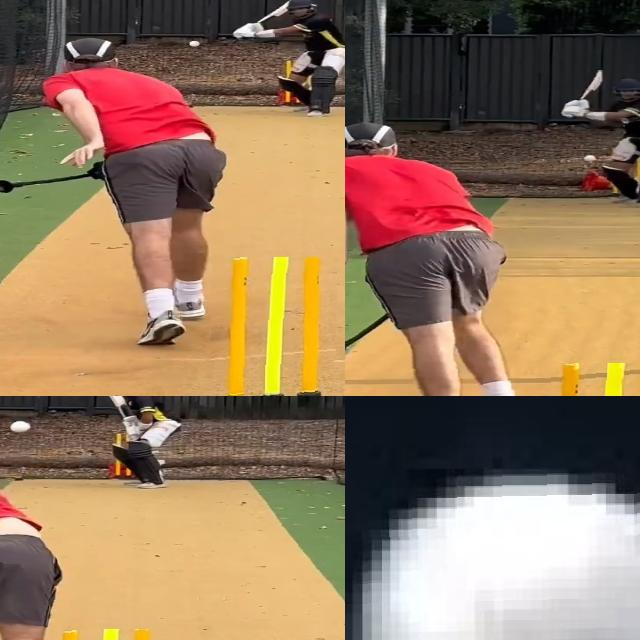Cricket ball: (345, 470, 640, 640), (9, 420, 32, 433), (584, 154, 599, 163), (187, 39, 203, 47)
Stumps: (211, 257, 337, 396)
